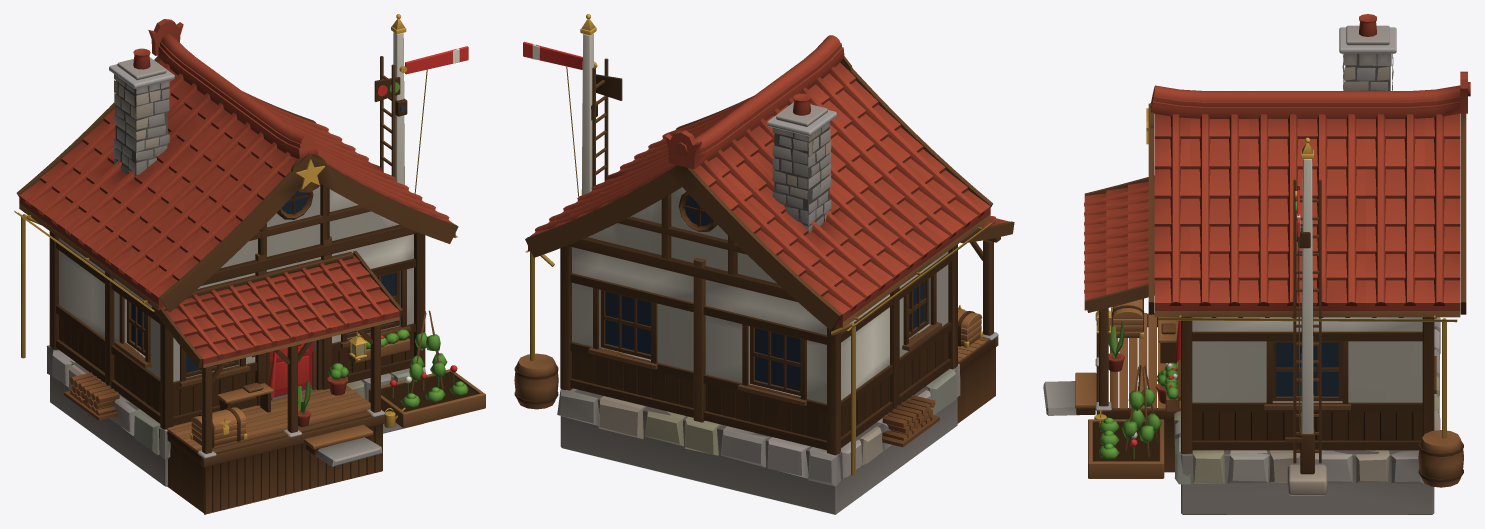
Rendered from signal-cottage.glb.
3 views of the same model, side by side, from view 1: azimuth 30°, elevation 25°; view 2: azimuth 150°, elevation 25°; view 3: azimuth 270°, elevation 25° (orthographic). The views are drawn at different scales.
Visible parts, largest first — view 1: Signal cottage Wood, Signal cottage Roof tile, Signal cottage Plaster, Signal cottage Leaf, Signal cottage Brass, Signal cottage Signal red, Signal cottage Window glow, Chest Wood, ChestLid Wood; view 2: Signal cottage Wood, Signal cottage Plaster, Signal cottage Roof tile, Signal cottage Window glow, Signal cottage Brass, Signal cottage Signal red; view 3: Signal cottage Roof tile, Signal cottage Wood, Signal cottage Plaster, Signal cottage Leaf, Signal cottage Brass, Signal cottage Window glow, ChestLid Wood, Chest Wood.
Part boxes in pixels (x1=…): Signal cottage Wood: x1=16, y1=56, x2=485, y2=514; Signal cottage Roof tile: x1=19, y1=19, x2=455, y2=426; Signal cottage Plaster: x1=46, y1=32, x2=459, y2=486; Signal cottage Leaf: x1=298, y1=82, x2=468, y2=414; Signal cottage Brass: x1=14, y1=14, x2=457, y2=428; Signal cottage Signal red: x1=268, y1=46, x2=468, y2=397; Signal cottage Window glow: x1=131, y1=105, x2=406, y2=372; Chest Wood: x1=191, y1=421, x2=245, y2=447; ChestLid Wood: x1=191, y1=407, x2=246, y2=430; Signal cottage Wood: x1=514, y1=57, x2=1014, y2=455; Signal cottage Plaster: x1=532, y1=33, x2=998, y2=514; Signal cottage Roof tile: x1=528, y1=35, x2=1009, y2=327; Signal cottage Window glow: x1=605, y1=196, x2=924, y2=390; Signal cottage Brass: x1=525, y1=14, x2=995, y2=475; Signal cottage Signal red: x1=523, y1=41, x2=582, y2=69; Signal cottage Roof tile: x1=1084, y1=14, x2=1470, y2=403; Signal cottage Wood: x1=1075, y1=103, x2=1466, y2=487; Signal cottage Plaster: x1=1043, y1=25, x2=1440, y2=514; Signal cottage Leaf: x1=1099, y1=201, x2=1297, y2=459; Signal cottage Brass: x1=1094, y1=108, x2=1457, y2=438; Signal cottage Window glow: x1=1276, y1=234, x2=1338, y2=396; ChestLid Wood: x1=1112, y1=298, x2=1143, y2=318; Chest Wood: x1=1112, y1=302, x2=1143, y2=337.
Size of the model in its own units: 7.58 by 6.83 by 6.71.
